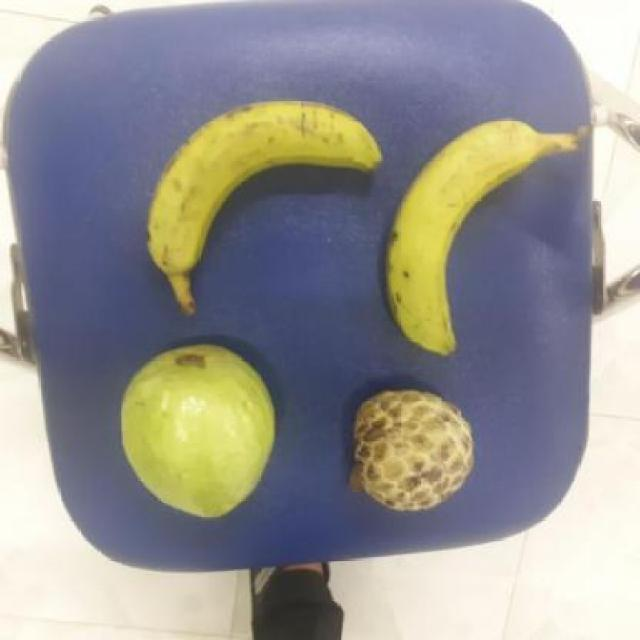banana: (138, 99, 375, 279), (379, 122, 543, 353)
guava: (109, 345, 274, 517)
sugar apple: (341, 389, 475, 513)
